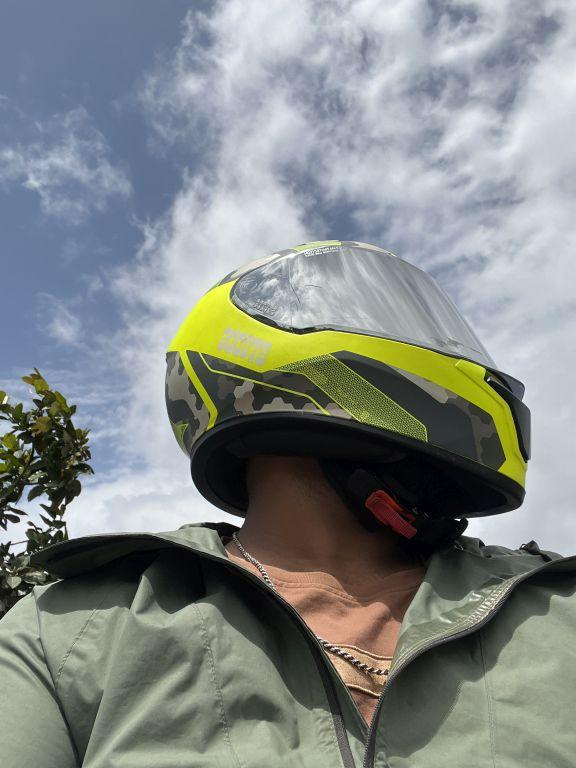helmet: (152, 225, 544, 566)
